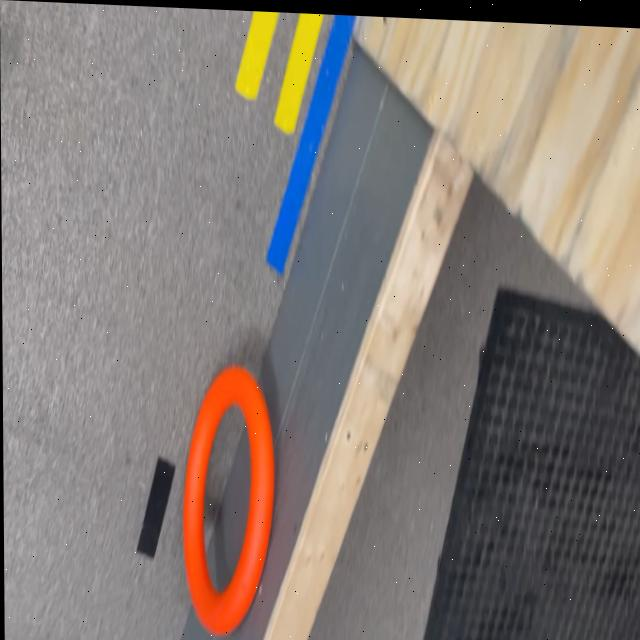note: (180, 360, 277, 636)
